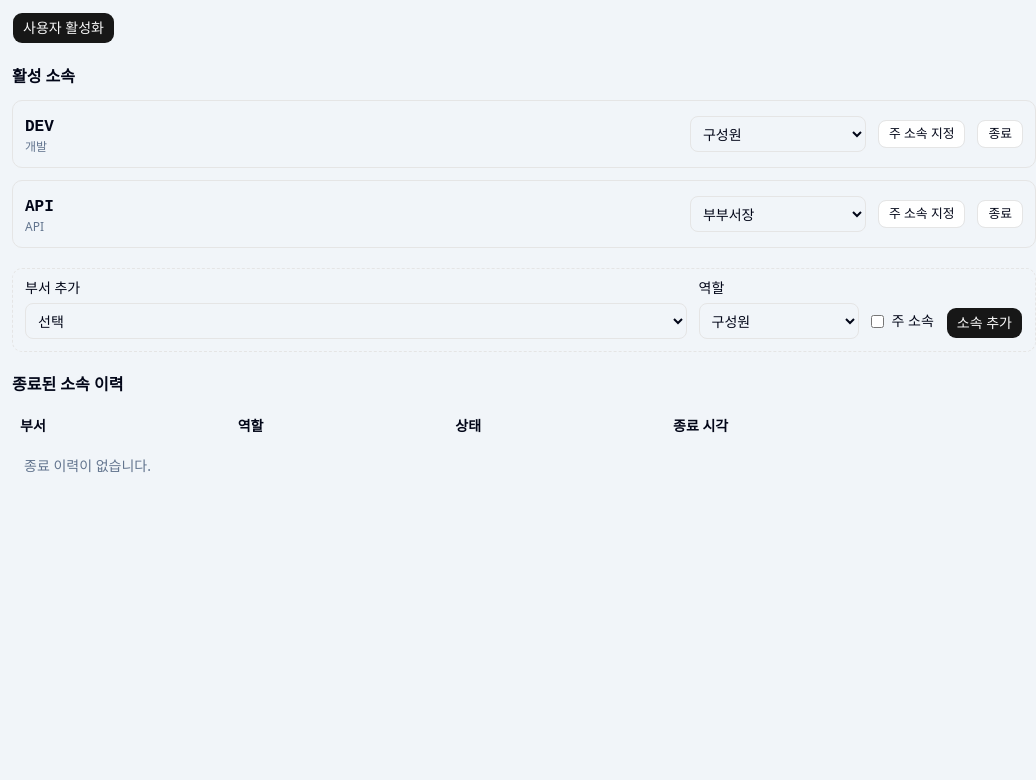
Test case: requires exactly one active primary membership and active position before activation
This screenshot has width=1036, height=780.
Step 1. Click the button "사용자 활성화" → point(63, 28), box [12, 12, 115, 44]
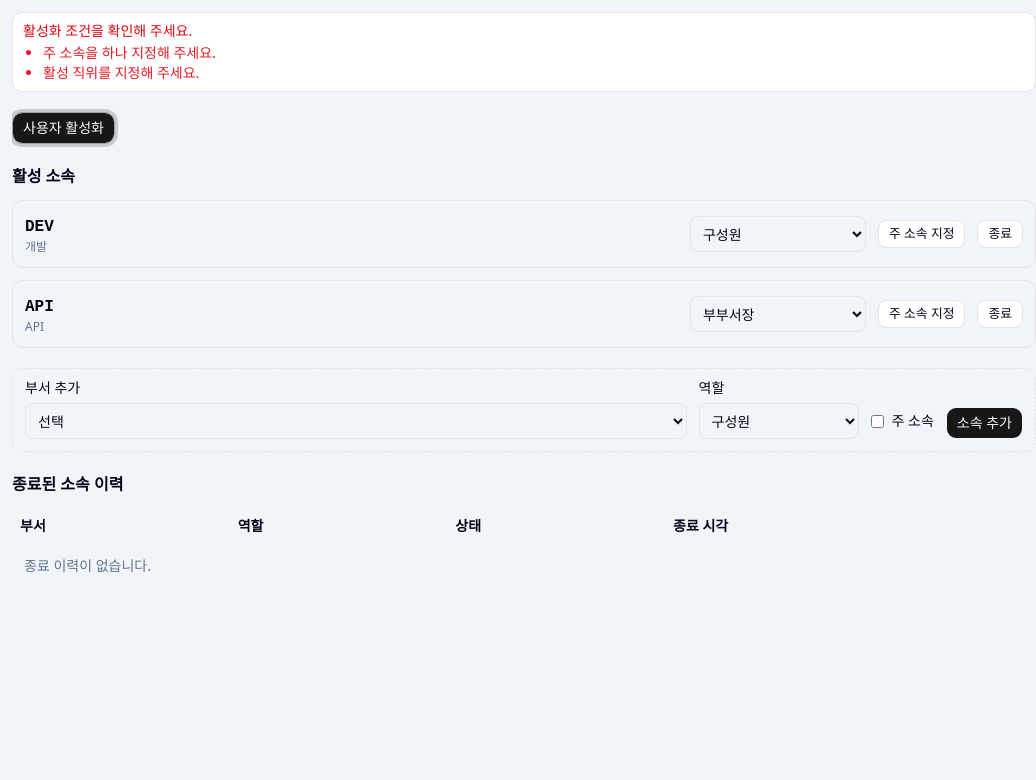
Expected: the list item "주 소속을 하나 지정해 주세요." is shown, [43, 43, 216, 62]
Expected: the list item "활성 직위를 지정해 주세요." is shown, [43, 63, 199, 82]
